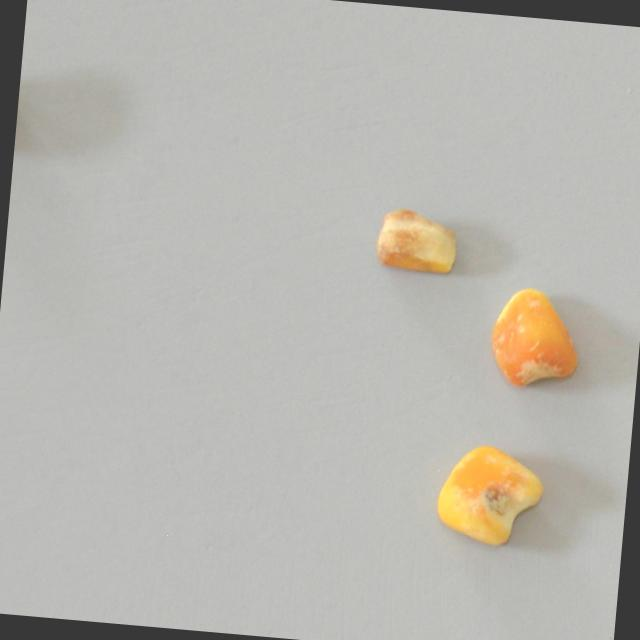dañado: (474, 281, 596, 399), (429, 436, 551, 554), (351, 179, 473, 297)
